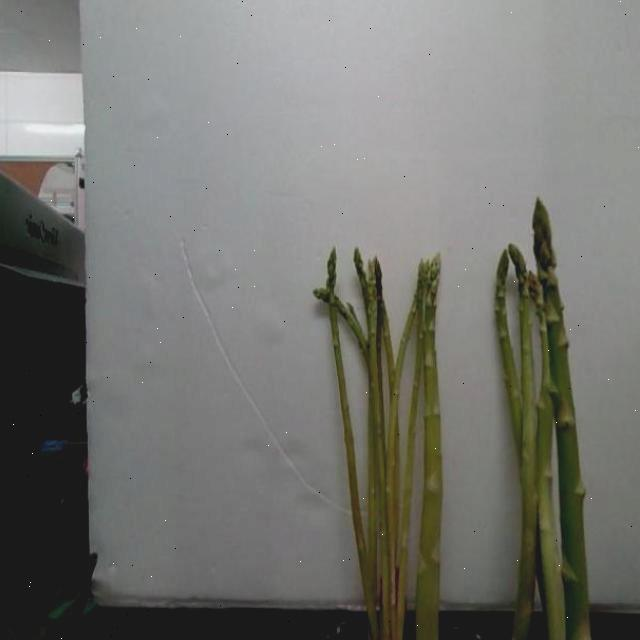aspargus: (532, 200, 593, 640), (411, 251, 444, 640)
